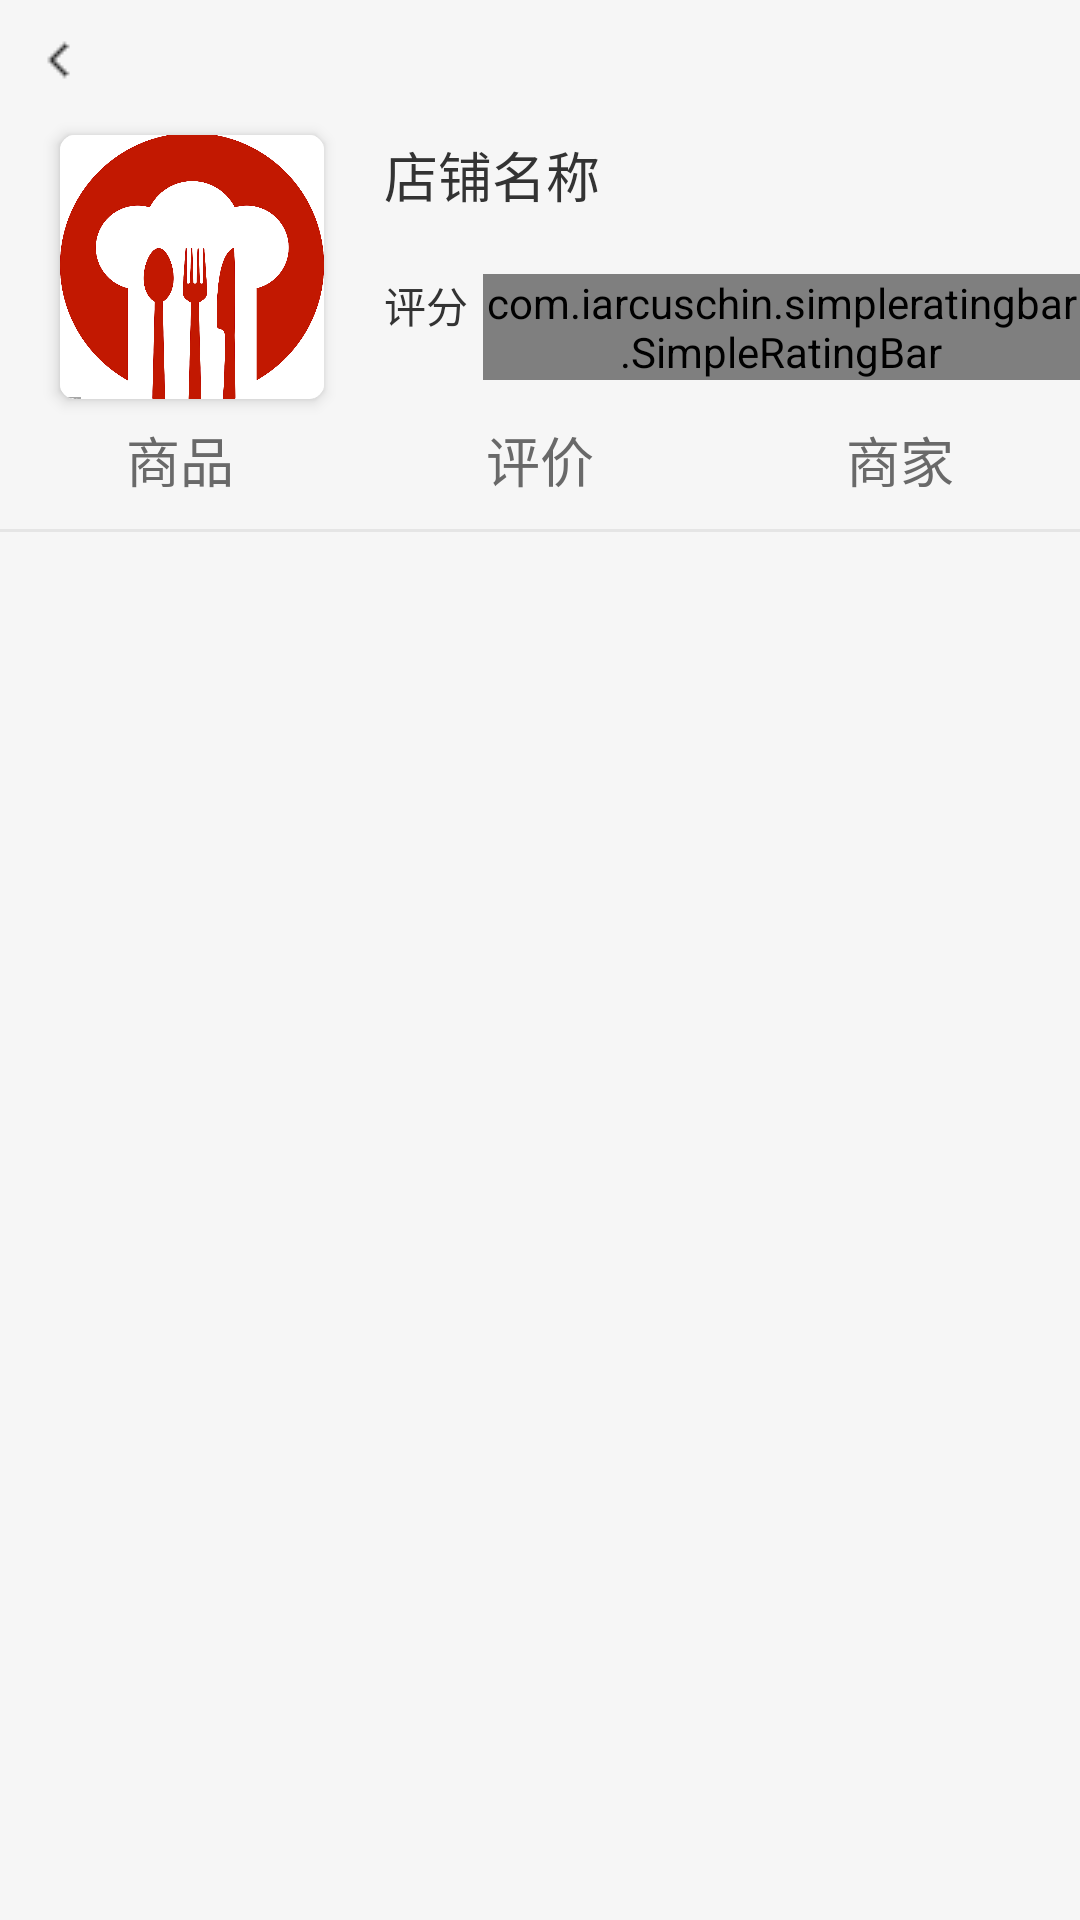

Named icons in this screenshot (1080px x 1920px) and their centers, point (x, y):
arrow left: point (59, 60)
